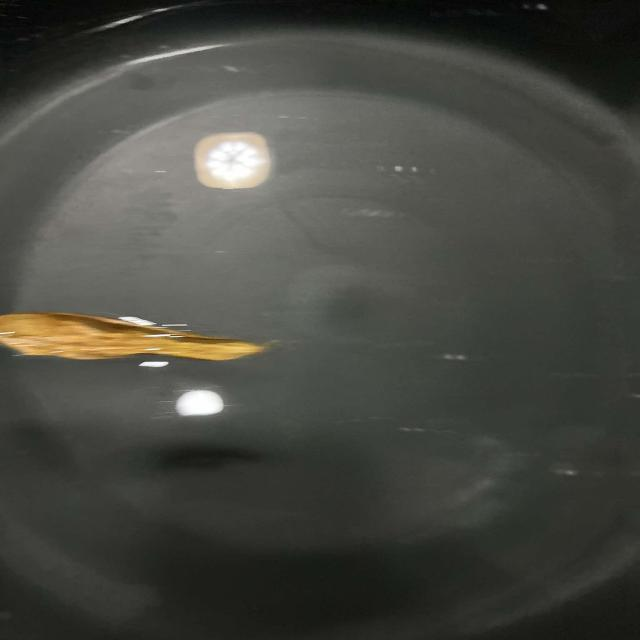Leaf: (0, 296, 282, 381)
